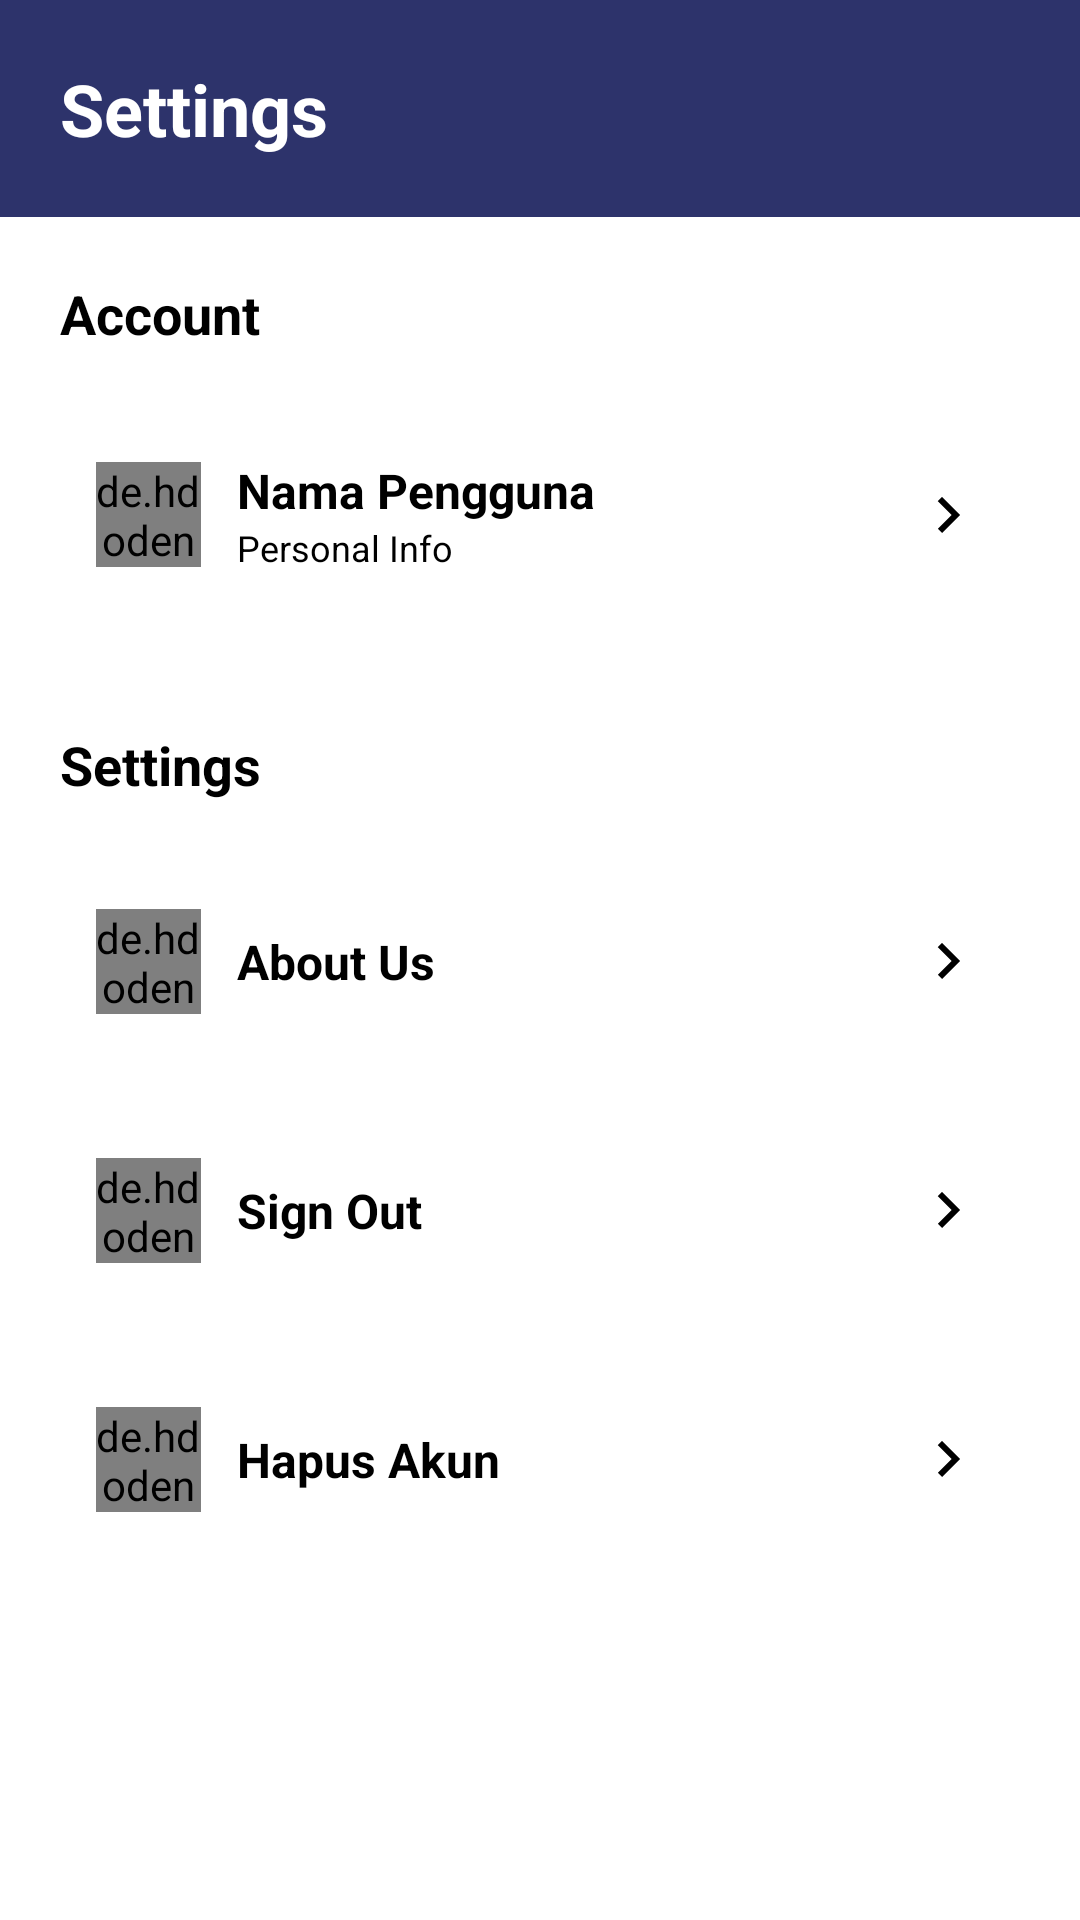

Named icons in this screenshot (1080x1920) and their centers, (x=x, y=y):
right arrow: (x=949, y=515), (x=949, y=961), (x=949, y=1210), (x=949, y=1459)
